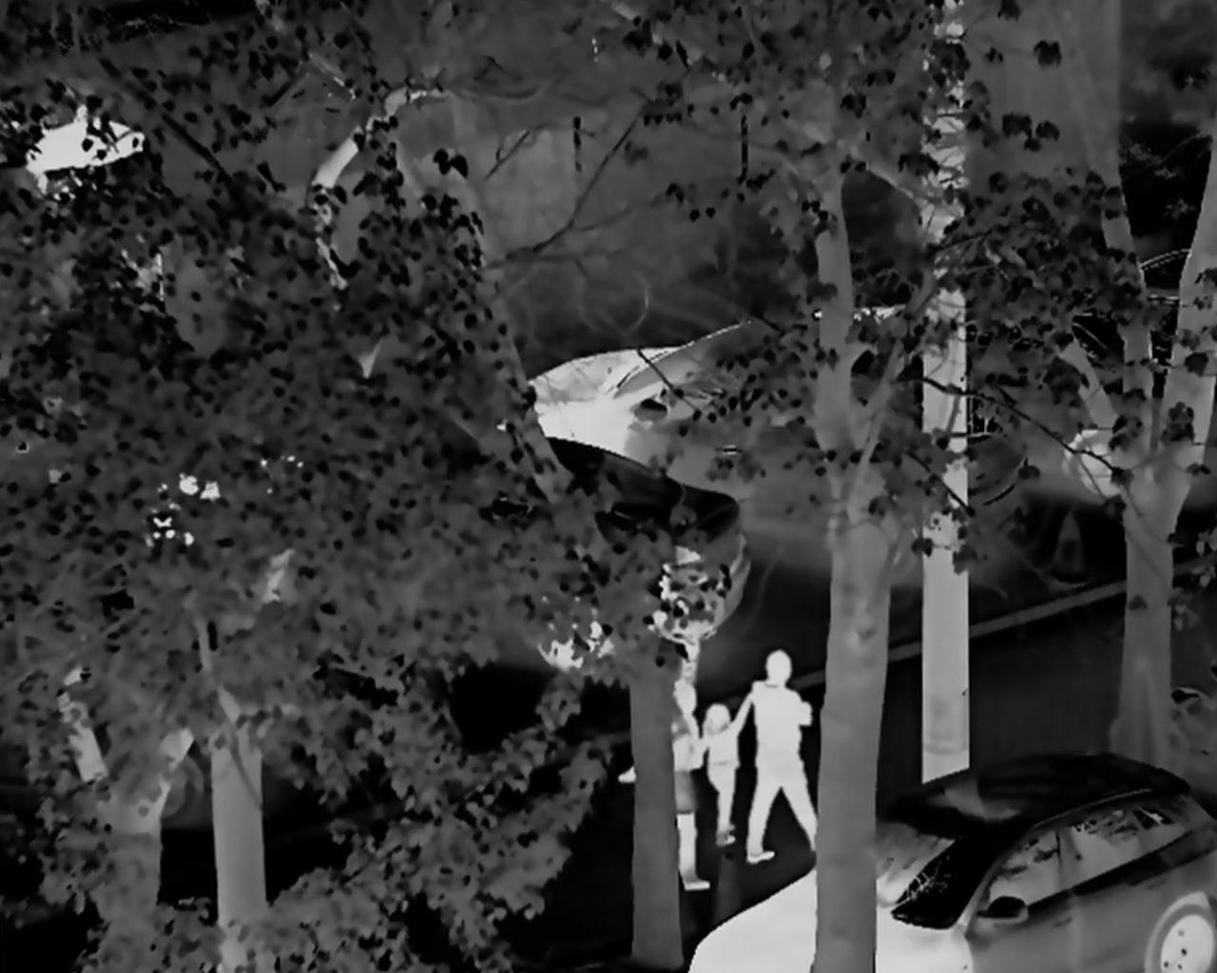person: (734, 640, 840, 871), (662, 668, 715, 897), (703, 705, 745, 842)
